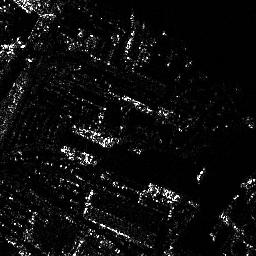ship: (71, 125, 117, 147), (59, 146, 98, 166)
